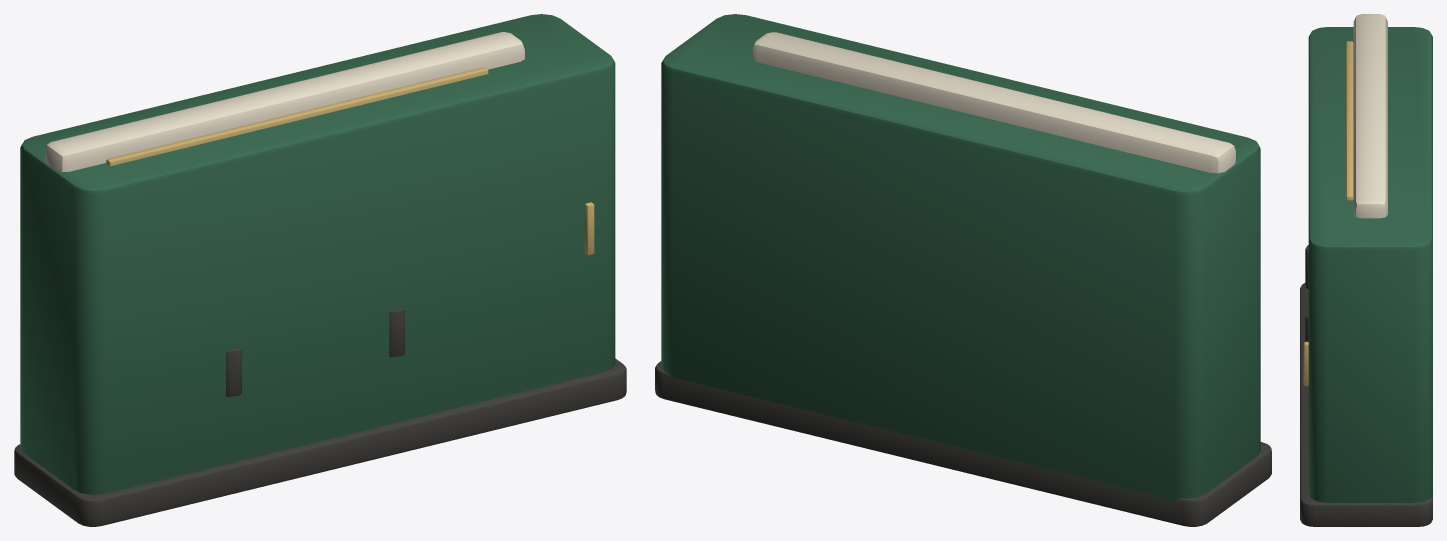
Rendered from cart_fleet_station.glb.
3 views of the same model, side by side, from view 1: azimuth 30°, elevation 25°; view 2: azimuth 150°, elevation 25°; view 3: azimuth 270°, elevation 25° (orthographic). The views are drawn at different scales.
Visible parts, largest first — view 1: LOD1_StaticBody, LOD0_StaticBody; view 2: LOD1_StaticBody, LOD0_StaticBody; view 3: LOD1_StaticBody, LOD0_StaticBody.
Boxes of the visible parts, x1=… form: LOD1_StaticBody: x1=20, y1=14, x2=615, y2=494; LOD0_StaticBody: x1=14, y1=32, x2=626, y2=526; LOD1_StaticBody: x1=661, y1=14, x2=1260, y2=511; LOD0_StaticBody: x1=655, y1=32, x2=1271, y2=526; LOD1_StaticBody: x1=1308, y1=14, x2=1432, y2=502; LOD0_StaticBody: x1=1300, y1=14, x2=1432, y2=526.
Size of what is drawn, in the model's own units: 2.48 by 1.52 by 0.62.
